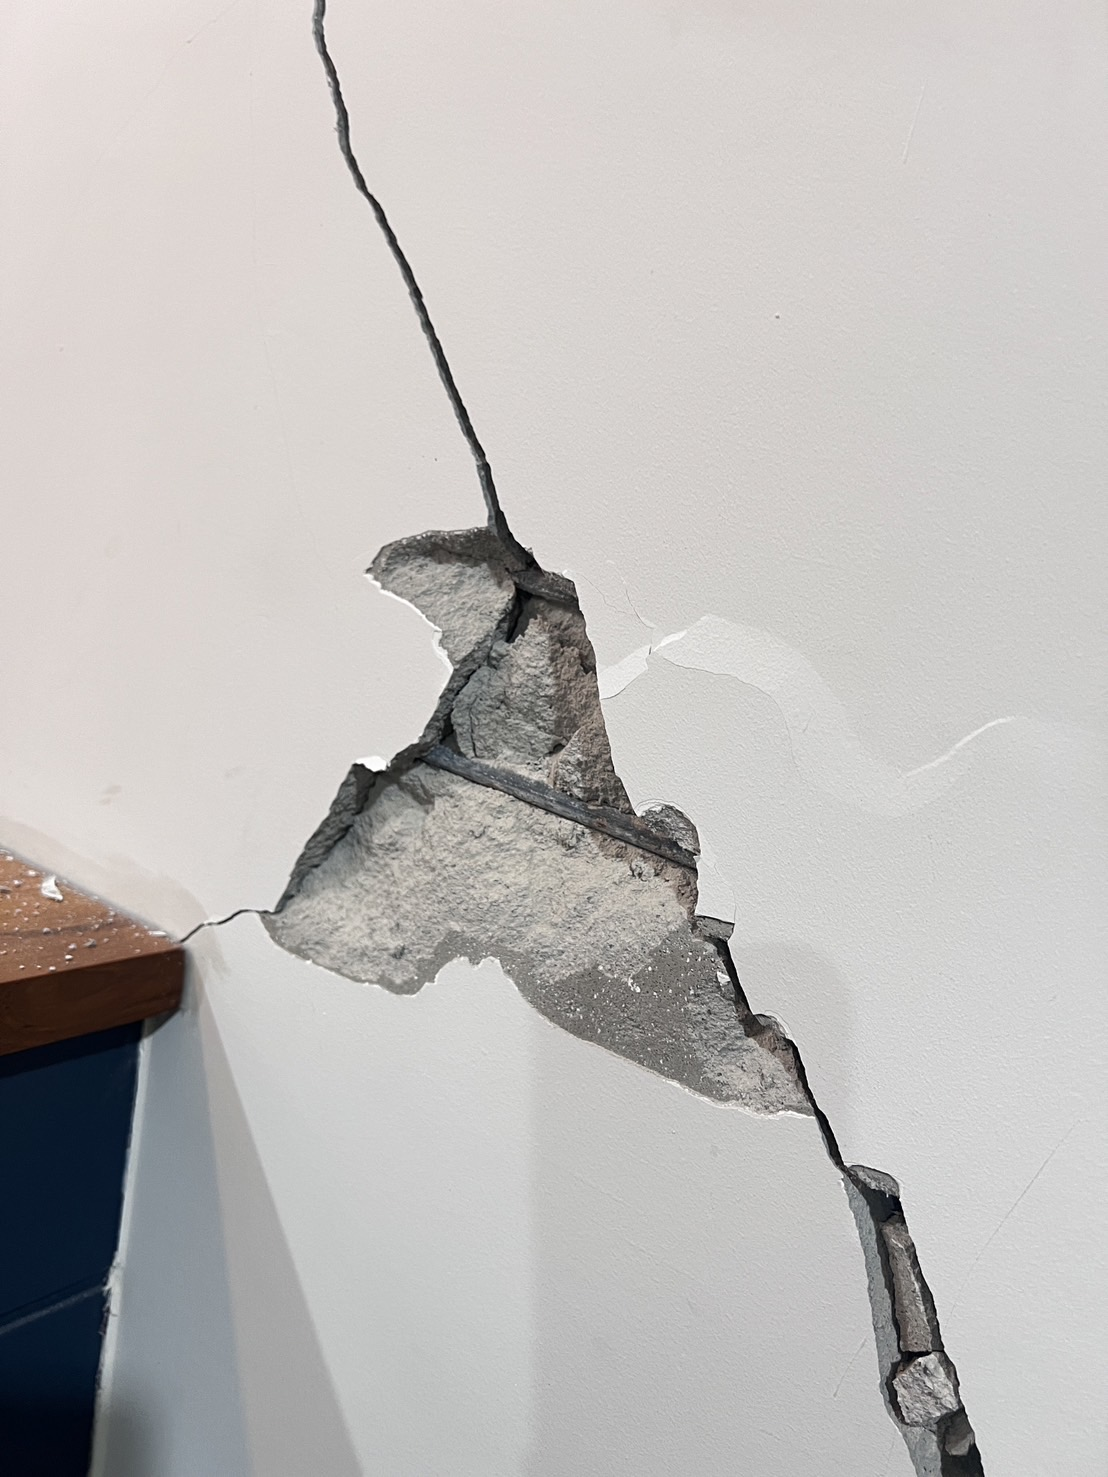High: (166, 2, 1003, 1470)
